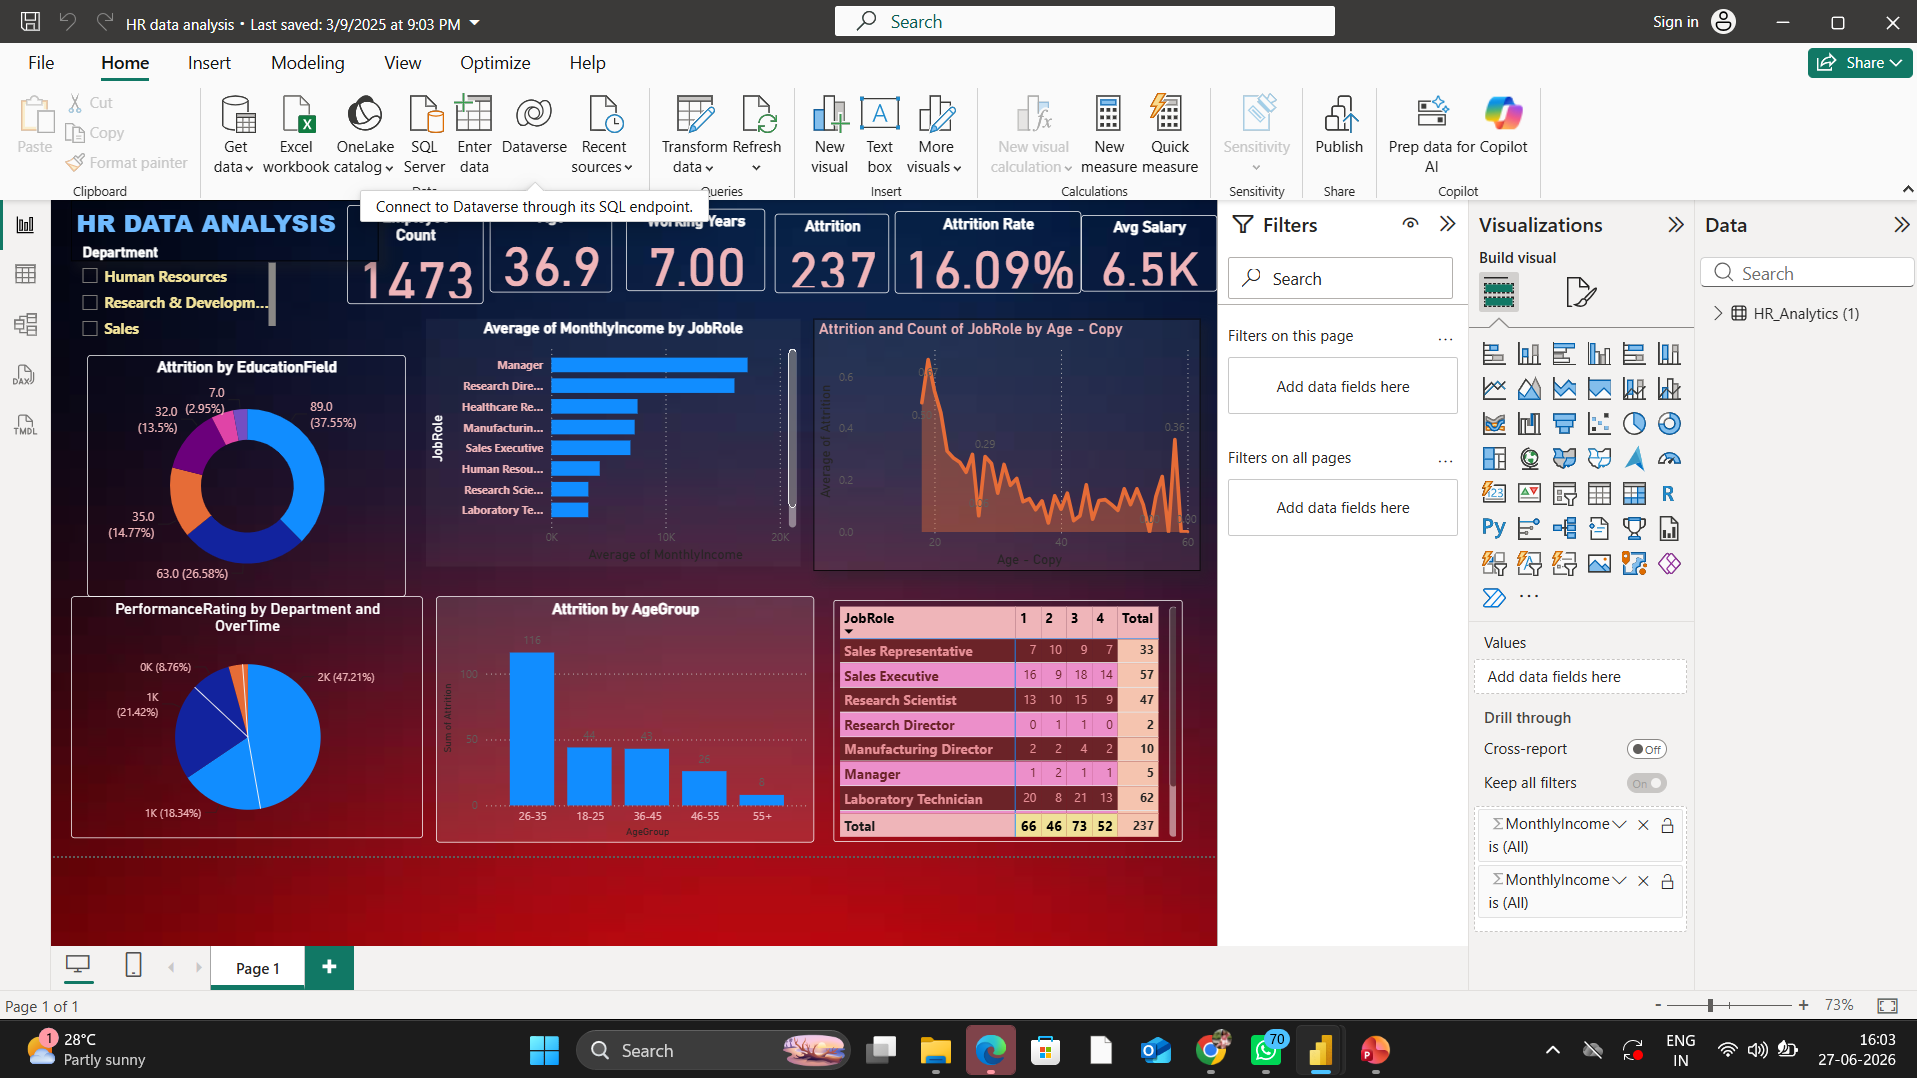

Layout of this report page (visuals, bound fields, positions):
{"tool":"powerbi","page":{"name":"Page 1","canvas":[1280,720],"ordinal":0},"visuals":[{"type":"card","title":"Attrition","fields":{"Values":["Sum(HR_Analytics (1).Attrition)"]},"box":[794.5,15.1,126,87.3],"z":0},{"type":"card","title":"Employee Count","fields":{"Values":["Sum(HR_Analytics (1).EmployeeCount)"]},"box":[325.2,5.5,149.6,108.4],"z":1000},{"type":"card","title":"Attrition Rate","fields":{"Values":["HR_Analytics (1).Attrition Rate"]},"box":[925.6,11.8,204.9,90.7],"z":2000},{"type":"card","title":"Avg Salary","fields":{"Values":["Avg(HR_Analytics (1).MonthlyIncome)"]},"box":[1130.5,16.8,149.5,84],"z":3000},{"type":"card","title":"Age","fields":{"Values":["Avg(HR_Analytics (1).Age - Copy)"]},"box":[482.1,5,134.4,95.7],"z":4000},{"type":"card","title":"Working Years","fields":{"Values":["Avg(HR_Analytics (1).YearsAtCompany)"]},"box":[631.6,10.1,152.9,90.7],"z":5000},{"type":"donutChart","title":"Attrition by EducationField","fields":{"Category":["HR_Analytics (1).EducationField"],"Y":["Sum(HR_Analytics (1).Attrition)"]},"box":[40.3,169.7,349.4,265.4],"z":6000},{"type":"columnChart","title":"Attrition by AgeGroup","fields":{"Category":["HR_Analytics (1).AgeGroup"],"Y":["Sum(HR_Analytics (1).Attrition)"]},"box":[423.3,435.1,414.9,270.4],"z":7000},{"type":"pieChart","title":"PerformanceRating by Department and OverTime","fields":{"Category":["HR_Analytics (1).Department"],"Y":["Sum(HR_Analytics (1).PerformanceRating)"],"Series":["HR_Analytics (1).OverTime"]},"box":[21.8,435.1,386.4,265.4],"z":8000},{"type":"barChart","fields":{"Category":["HR_Analytics (1).JobRole"],"Y":["Avg(HR_Analytics (1).MonthlyIncome)"]},"box":[411.5,131,411.5,272.1],"z":9000},{"type":"pivotTable","fields":{"Rows":["HR_Analytics (1).JobRole"],"Columns":["HR_Analytics (1).JobSatisfaction"],"Values":["Sum(HR_Analytics (1).Attrition)"]},"box":[858.4,438.4,383,265.4],"z":10000},{"type":"areaChart","title":"Attrition and Count of JobRole by Age - Copy","fields":{"Category":["HR_Analytics (1).Age - Copy"],"Y":["Avg(HR_Analytics (1).Attrition)"]},"box":[836.5,131,425,277.2],"z":11000},{"type":"textbox","box":[21.8,0,337.6,67.2],"z":12000},{"type":"slicer","fields":{"Values":["HR_Analytics (1).Department"]},"box":[21.8,43.7,230.1,111],"z":13000}]}

Visuals, with their boxes in screenshot pixels (x1, y1, x2, y2):
"Attrition" card: [1152, 36, 1331, 161]
"Employee Count" card: [483, 23, 696, 177]
"Attrition Rate" card: [1339, 32, 1630, 161]
"Avg Salary" card: [1630, 39, 1843, 159]
"Age" card: [707, 22, 898, 158]
"Working Years" card: [920, 29, 1138, 159]
"Attrition by EducationField" donutChart: [77, 257, 575, 635]
"Attrition by AgeGroup" columnChart: [623, 635, 1214, 1020]
"PerformanceRating by Department and OverTime" pieChart: [51, 635, 601, 1013]
barChart - HR_Analytics (1).JobRole x Avg(HR_Analytics (1).MonthlyIncome): [606, 202, 1192, 589]
pivotTable - HR_Analytics (1).JobRole x HR_Analytics (1).JobSatisfaction: [1243, 640, 1788, 1018]
"Attrition and Count of JobRole by Age - Copy" areaChart: [1212, 202, 1817, 596]
textbox: [51, 15, 532, 111]
slicer - HR_Analytics (1).Department: [51, 77, 379, 235]
